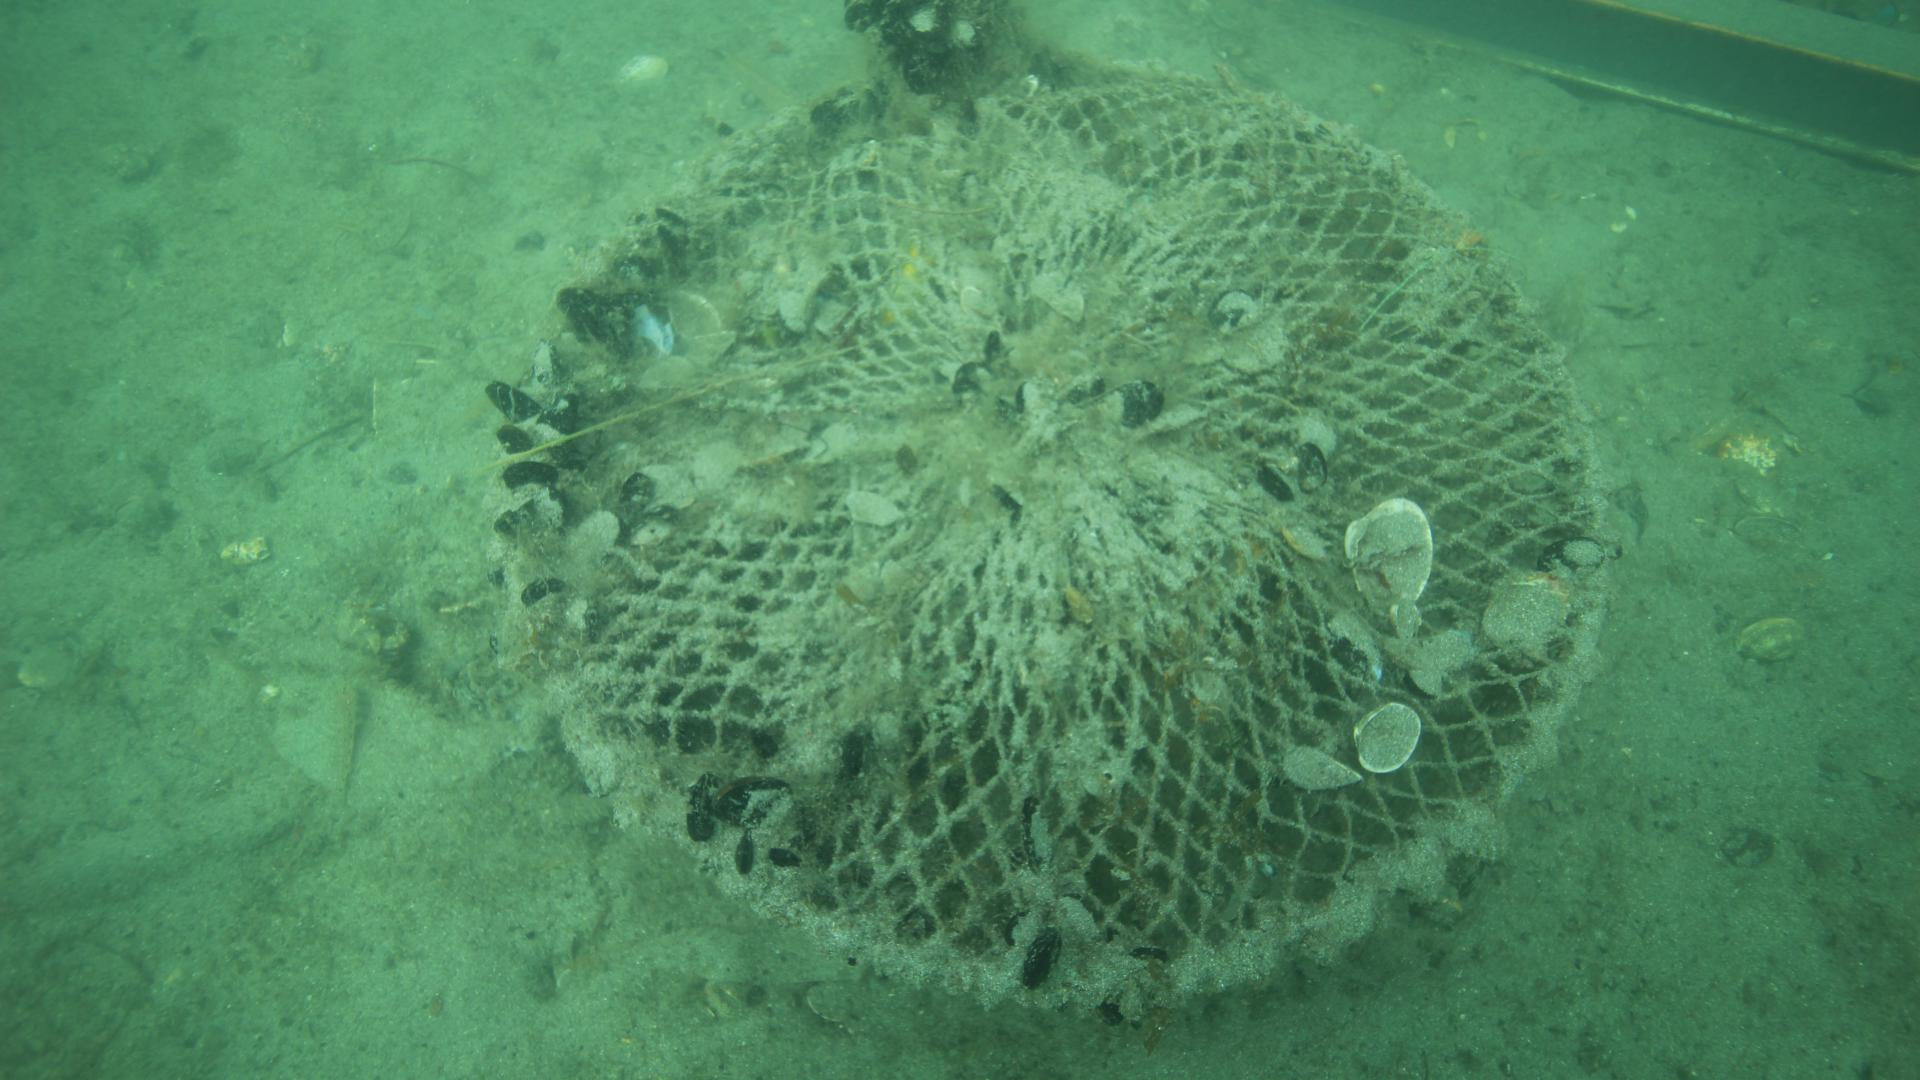circular fish trap: (514, 62, 1611, 1011)
